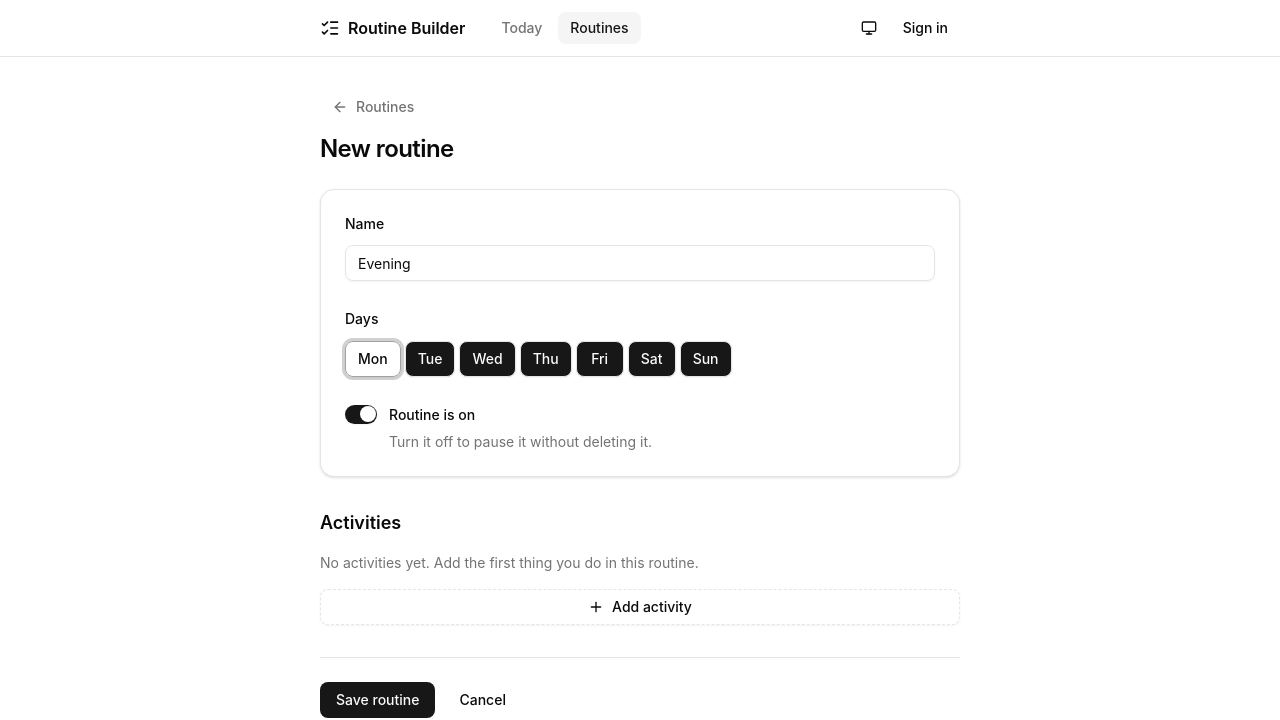
creating a routine › creates a routine with an activity and saves it
Earlier steps of the test are not shown.
Click the button "Add activity" at coordinates (640, 606), box left=320, top=588, right=960, bottom=624
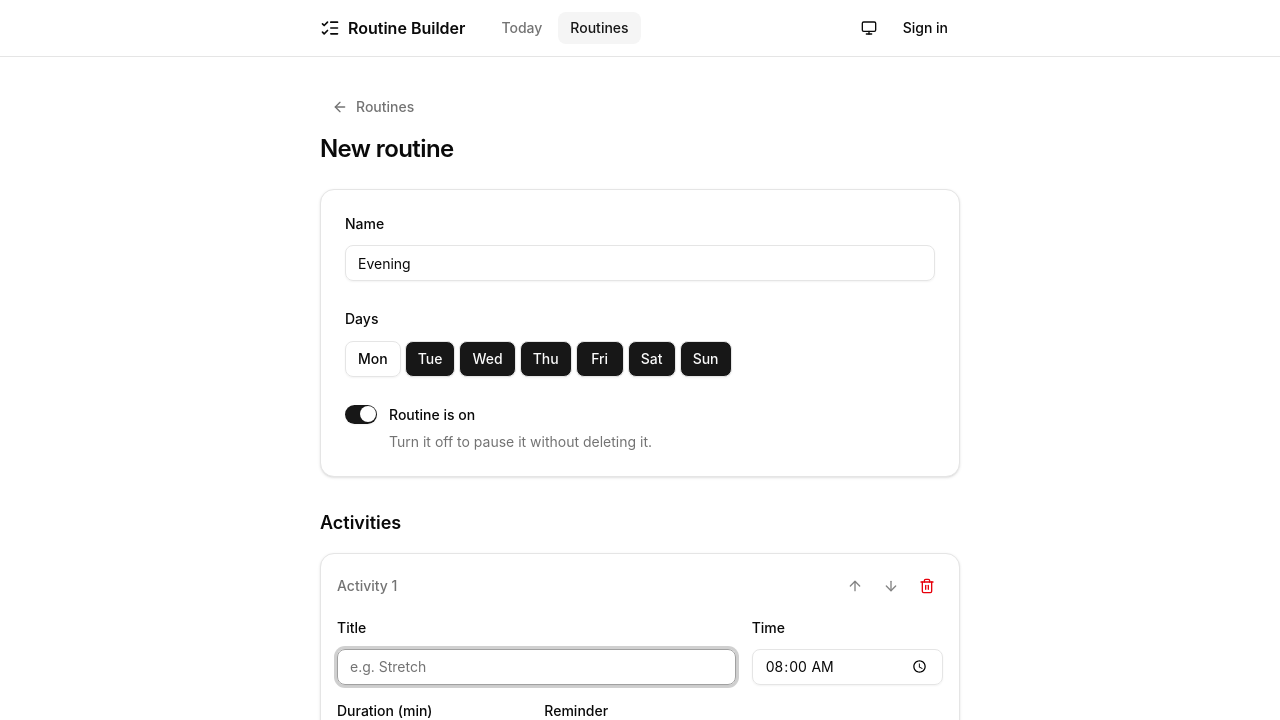
Type "Read" into the field labelled "Title" at coordinates (536, 667), box left=337, top=649, right=736, bottom=685
Replace the text in the time field labelled "Time" with "21:30" at coordinates (847, 667), box left=752, top=649, right=943, bottom=685
(page scrolled)
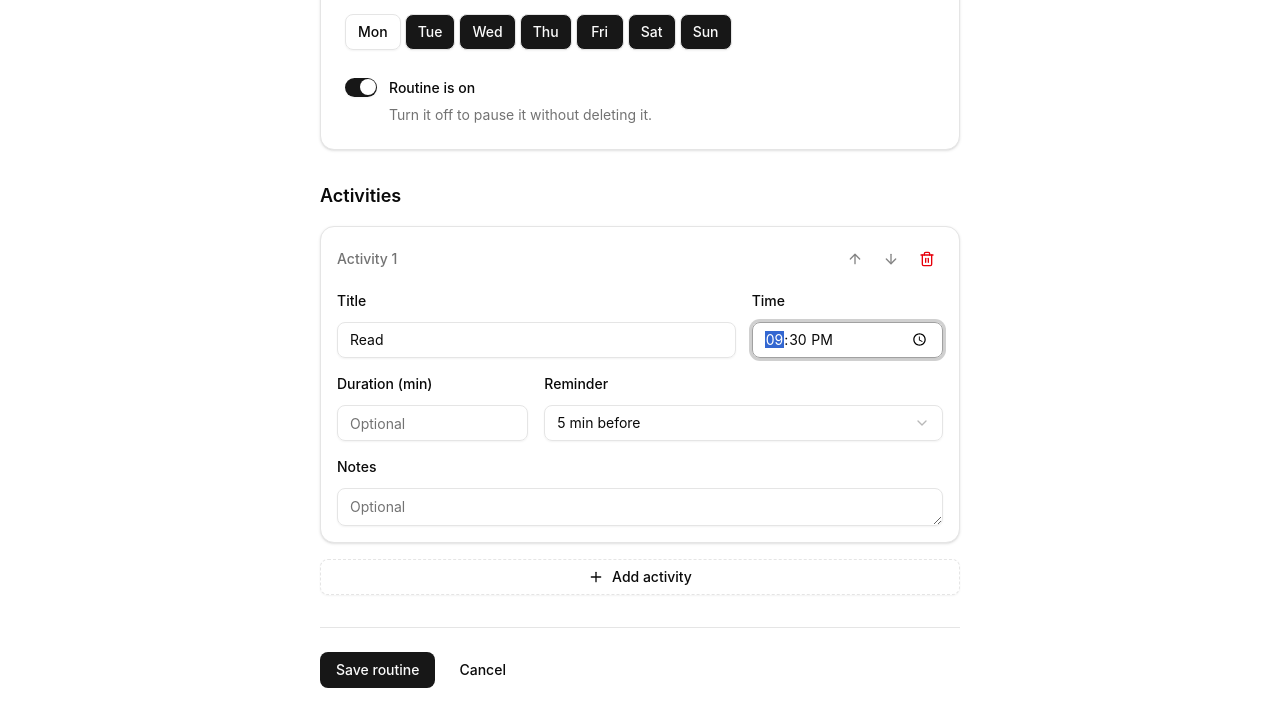
Type "20" into the number field labelled "Duration (min)" at coordinates (433, 423), box left=337, top=405, right=528, bottom=441
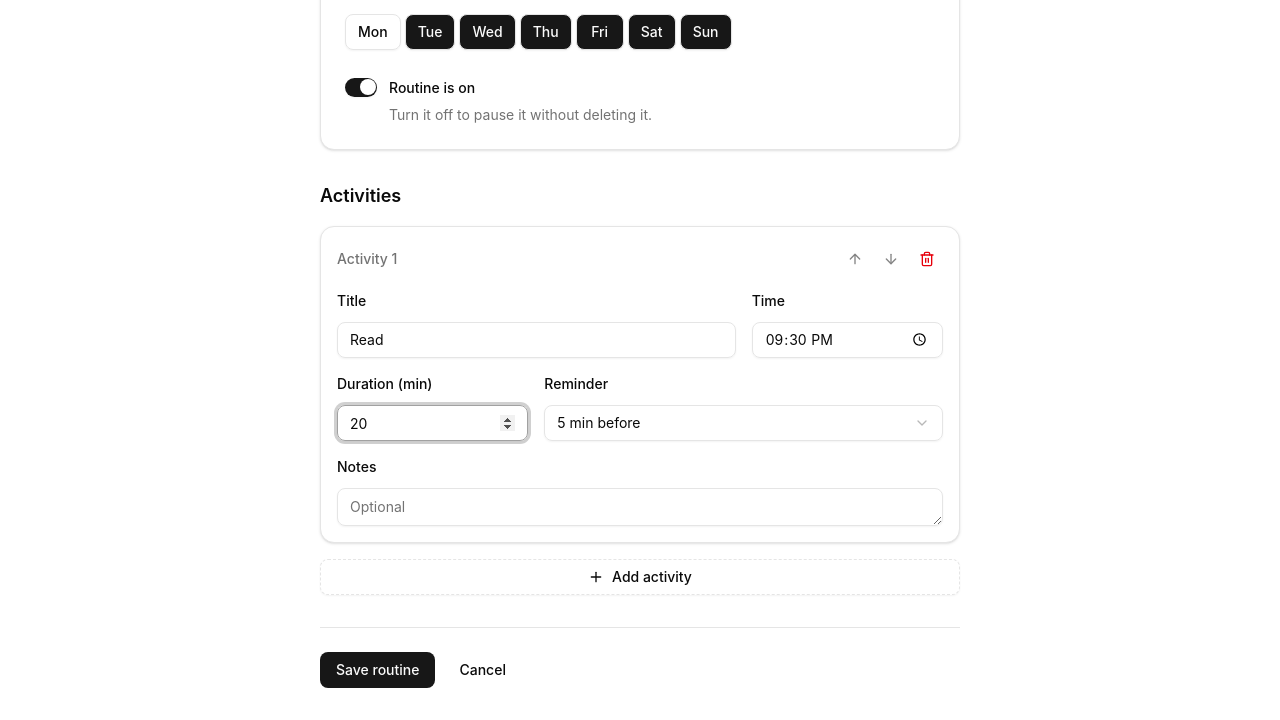
Click the dropdown named "Reminder" at coordinates (599, 422), box left=544, top=405, right=943, bottom=441
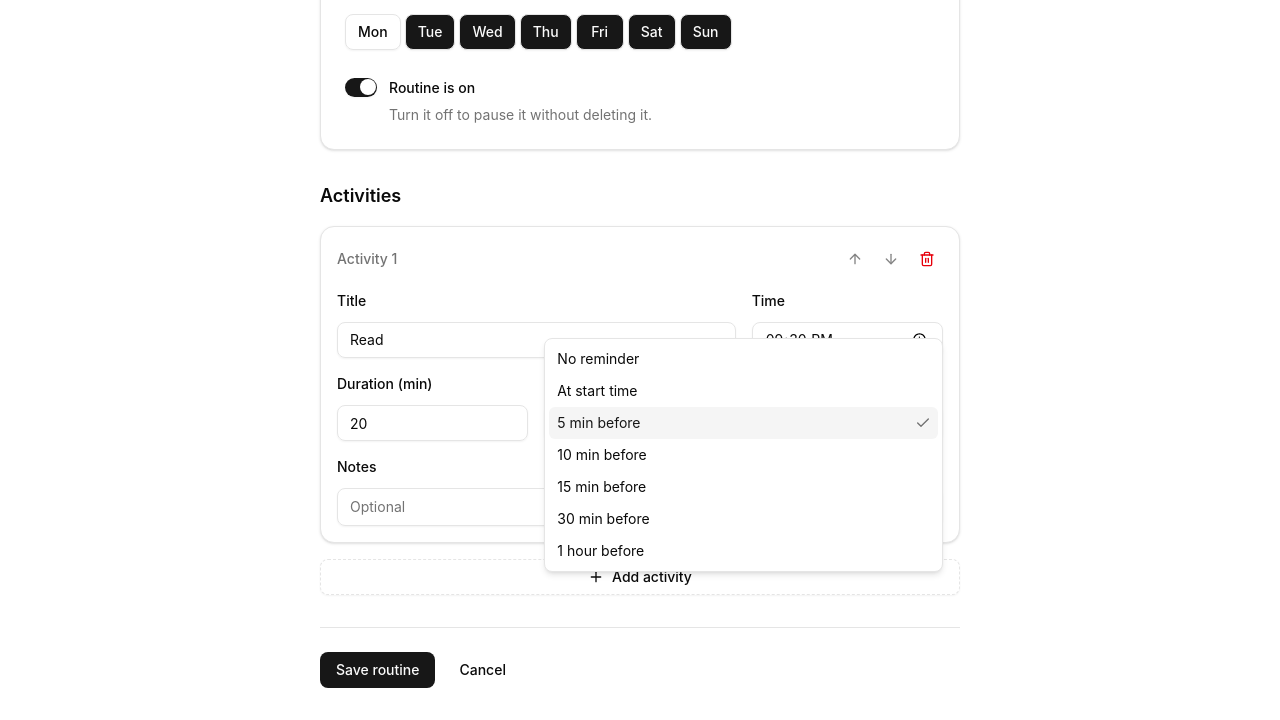
Click the option "10 min before" at coordinates (602, 454), box left=557, top=446, right=647, bottom=463
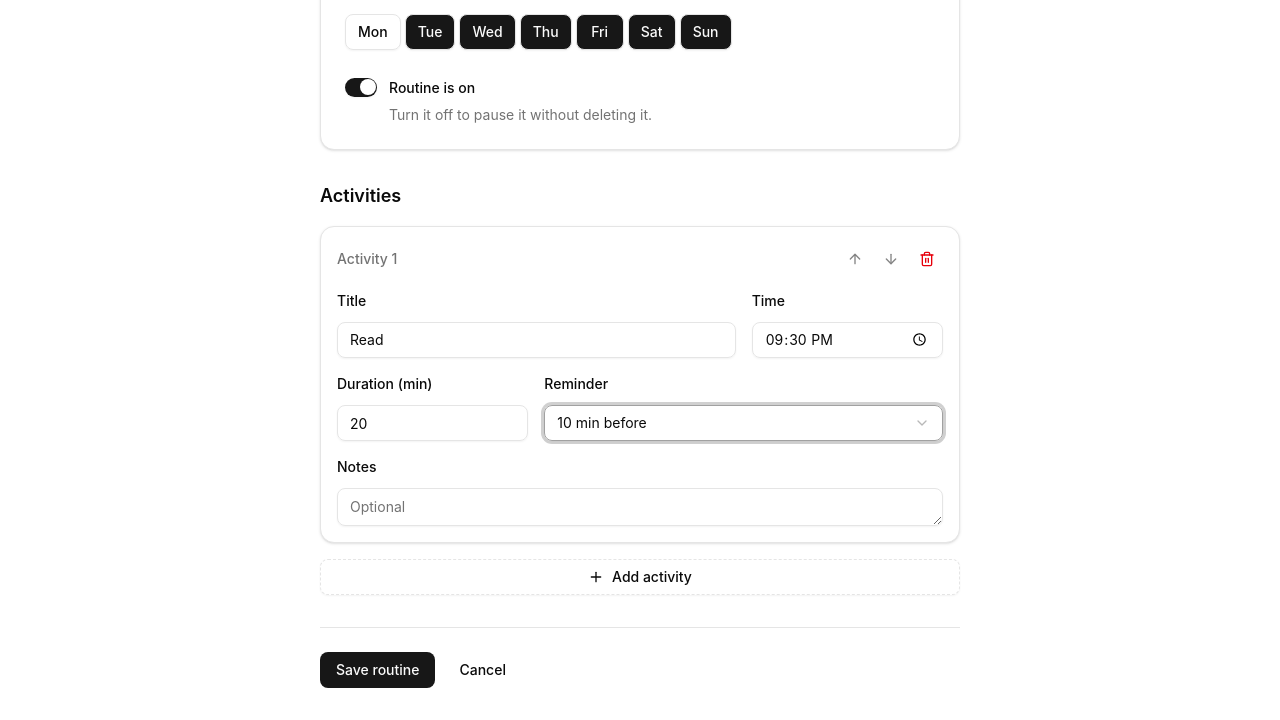
Click the button "Save routine" at coordinates (378, 670), box left=320, top=652, right=436, bottom=688
(page scrolled)
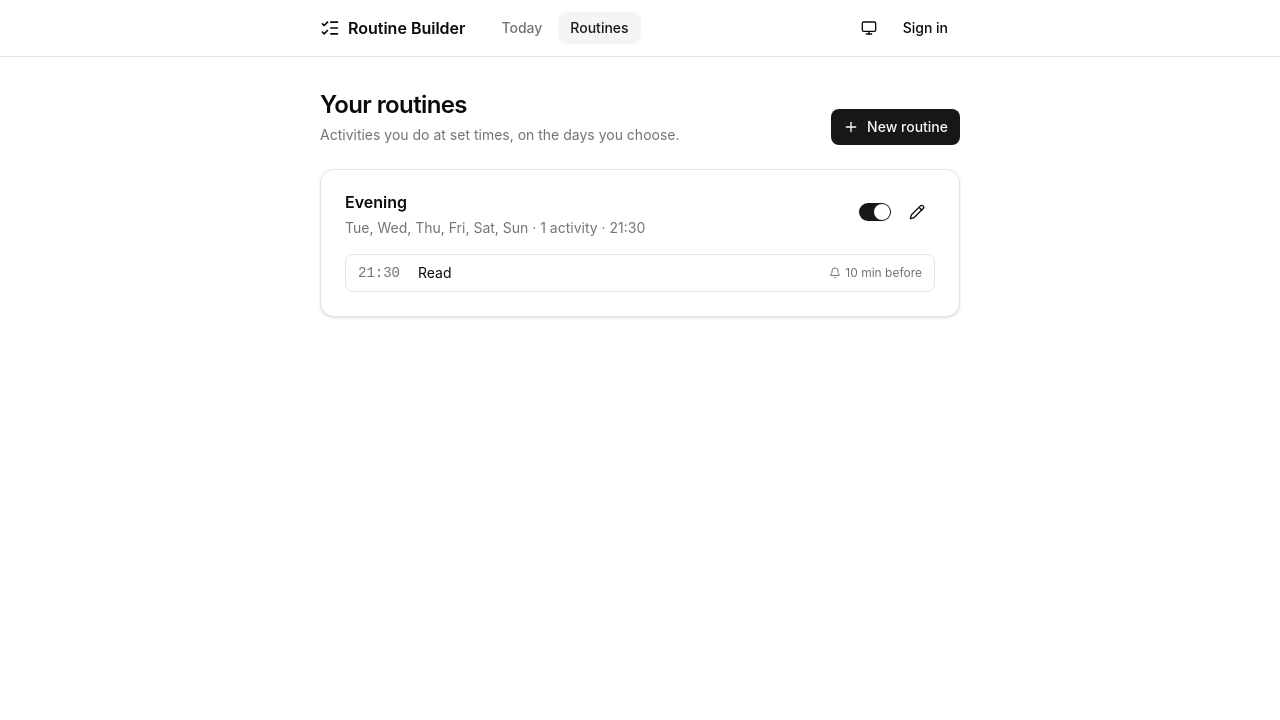
Check: the heading "Evening" is shown, box left=345, top=194, right=407, bottom=210
